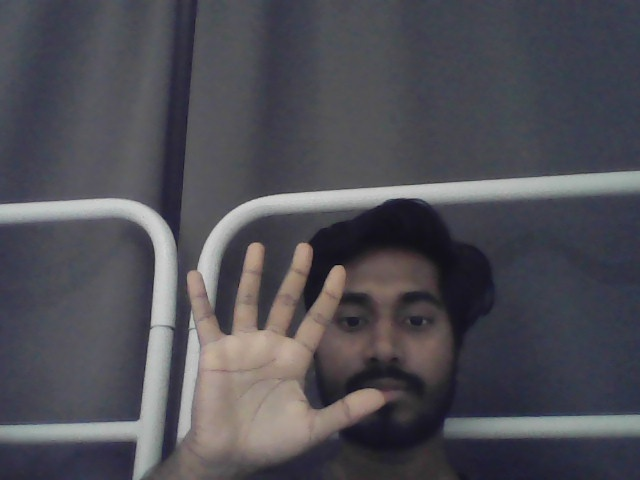hello: (186, 241, 386, 469)
